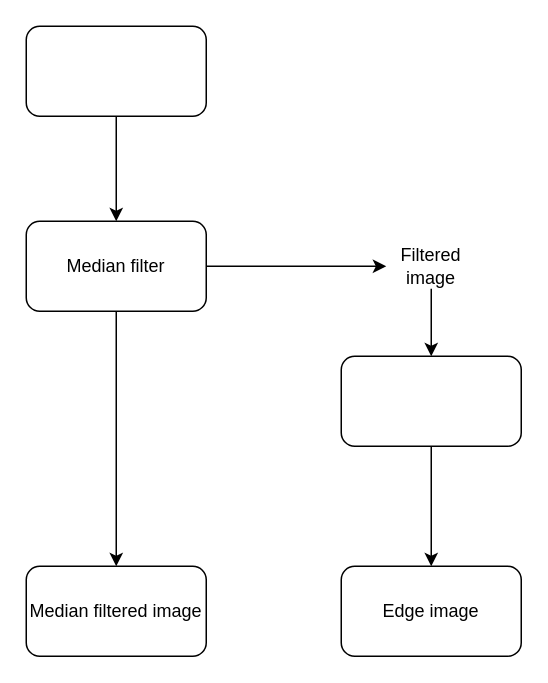
Image size: 548x683. Some labels were removed from this diagram. The shapes that lost their labels are listed below. From the top down, each one's centre as x and y in pixels, then its label:
At pixel 115 70: "Input image".
At pixel 430 400: "Edge detection".
